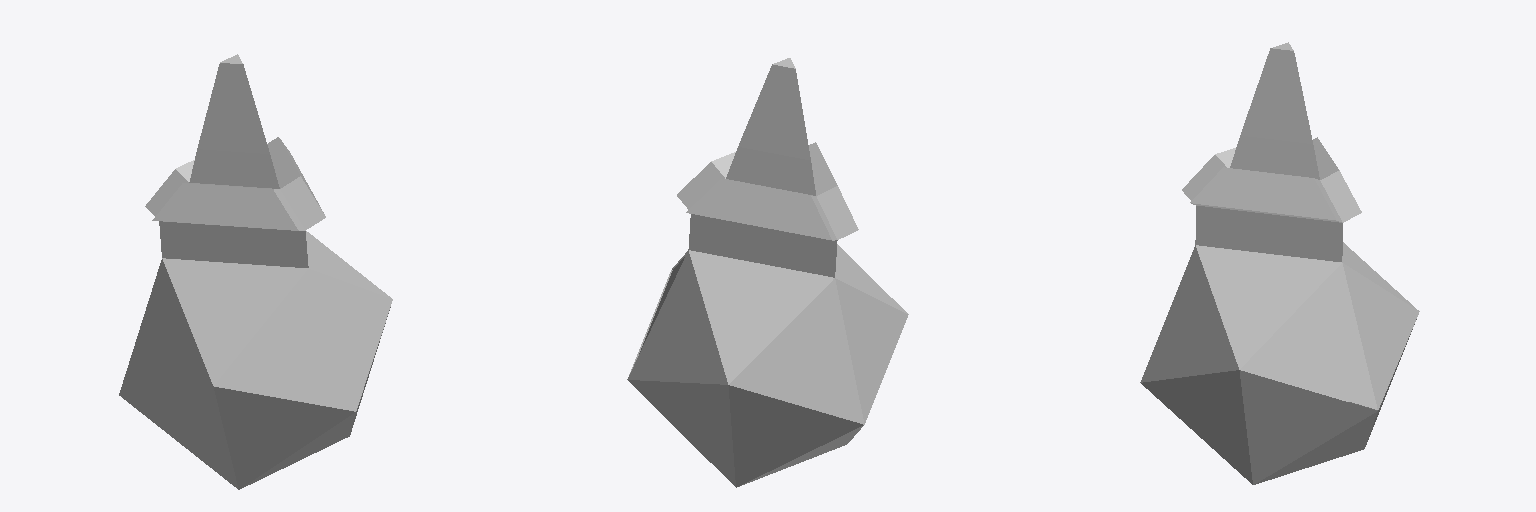
The model's file is ico.obj.
3 views of the same model, side by side, from view 1: azimuth 30°, elevation 25°; view 2: azimuth 150°, elevation 25°; view 3: azimuth 270°, elevation 25° (orthographic).
Visible parts, largest first — view 1: Icosphere; view 2: Icosphere; view 3: Icosphere.
Part boxes in pixels (x1,y1,x2,y2): Icosphere: (119, 54, 392, 489); Icosphere: (627, 58, 908, 487); Icosphere: (1140, 42, 1419, 484).
Bounding box in the file's own units: 5 × 8.16 × 5.18.